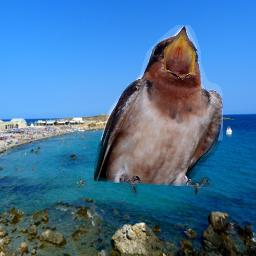Swallow: (94, 25, 223, 197)
